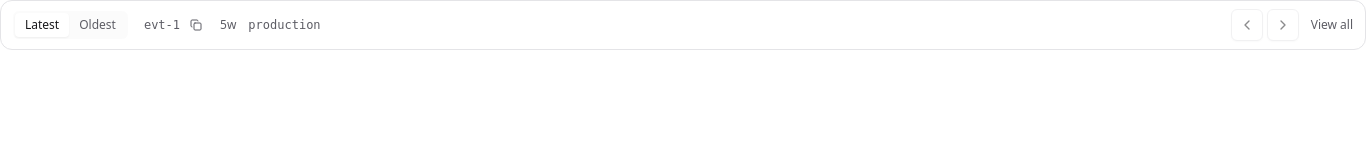
Scenario: EventNavigator filter forwarding › carries the filters when jumping to the oldest anchor
Check: the text "evt-1" is shown, box 144,17 -> 180,33
Click the button "Oldest".
click(98, 25)  # box 69,13 -> 126,37
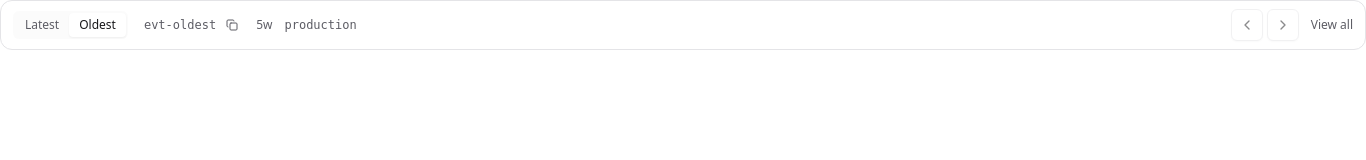
Check: the text "evt-oldest" is shown, box 144,17 -> 216,33
